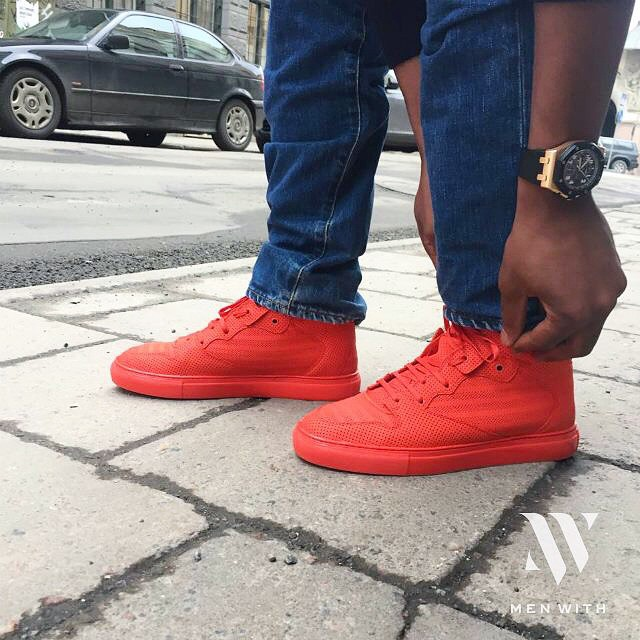sneaker: (275, 287, 607, 490), (96, 248, 377, 410)
